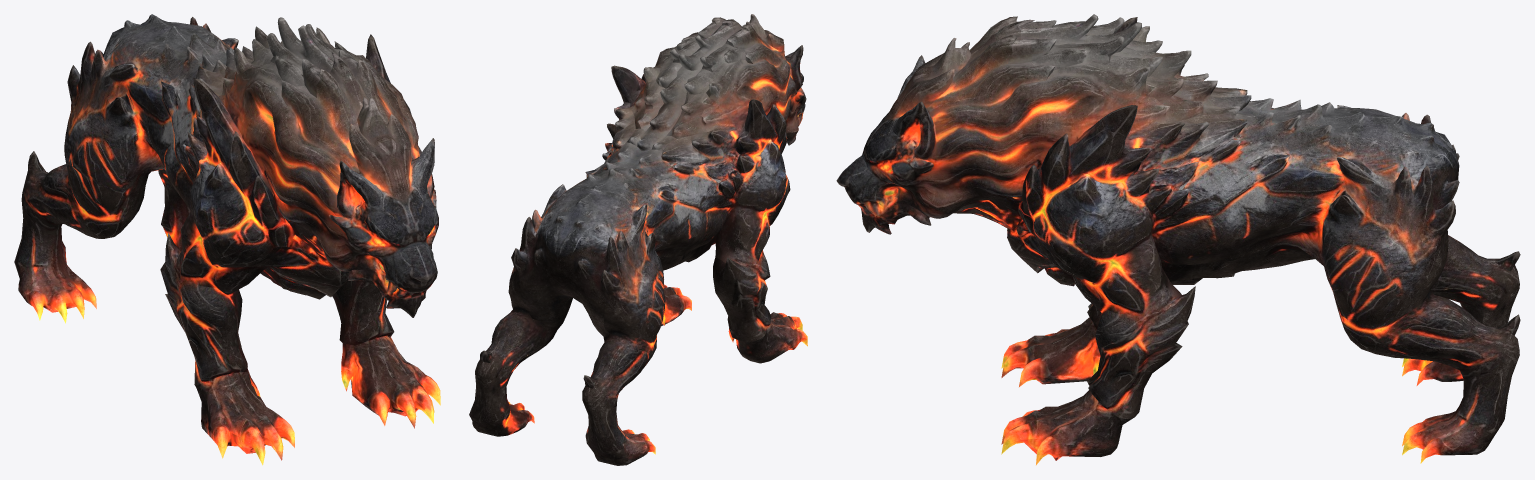
Rendered from m8ga_left_old_ckpt2_rotate_180_0.85_cfg1.0_et3.0_traj_aware.glb.
The picture shows the model from 3 angles, left to right: view 1: azimuth 30°, elevation 25°; view 2: azimuth 150°, elevation 25°; view 3: azimuth 270°, elevation 25°; orthographic projection. The views are drawn at different scales.
Visible parts, largest first — view 1: Object_9_frozen; view 2: Object_9_frozen; view 3: Object_9_frozen.
Boxes of the visible parts, x1,y1,x2,y2 form: Object_9_frozen: [14, 14, 440, 465]; Object_9_frozen: [469, 14, 807, 465]; Object_9_frozen: [836, 14, 1520, 465].
Bounding box in the file's own units: 0.695 × 1.16 × 1.8.
1 material, 1 textured.
